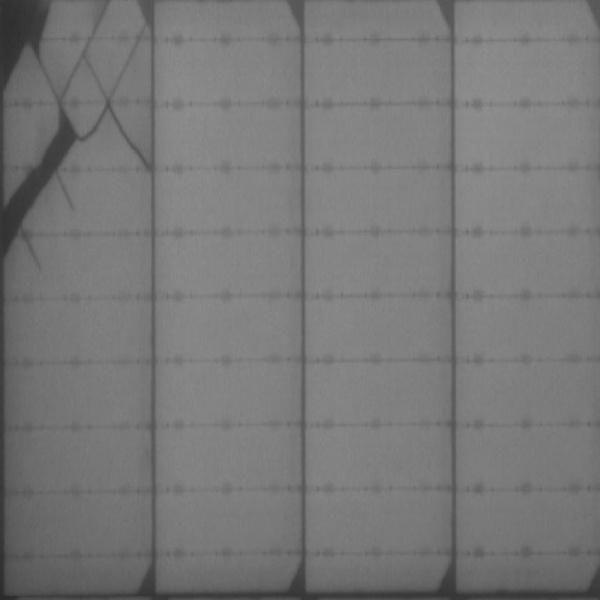broken: (1, 1, 152, 270)
